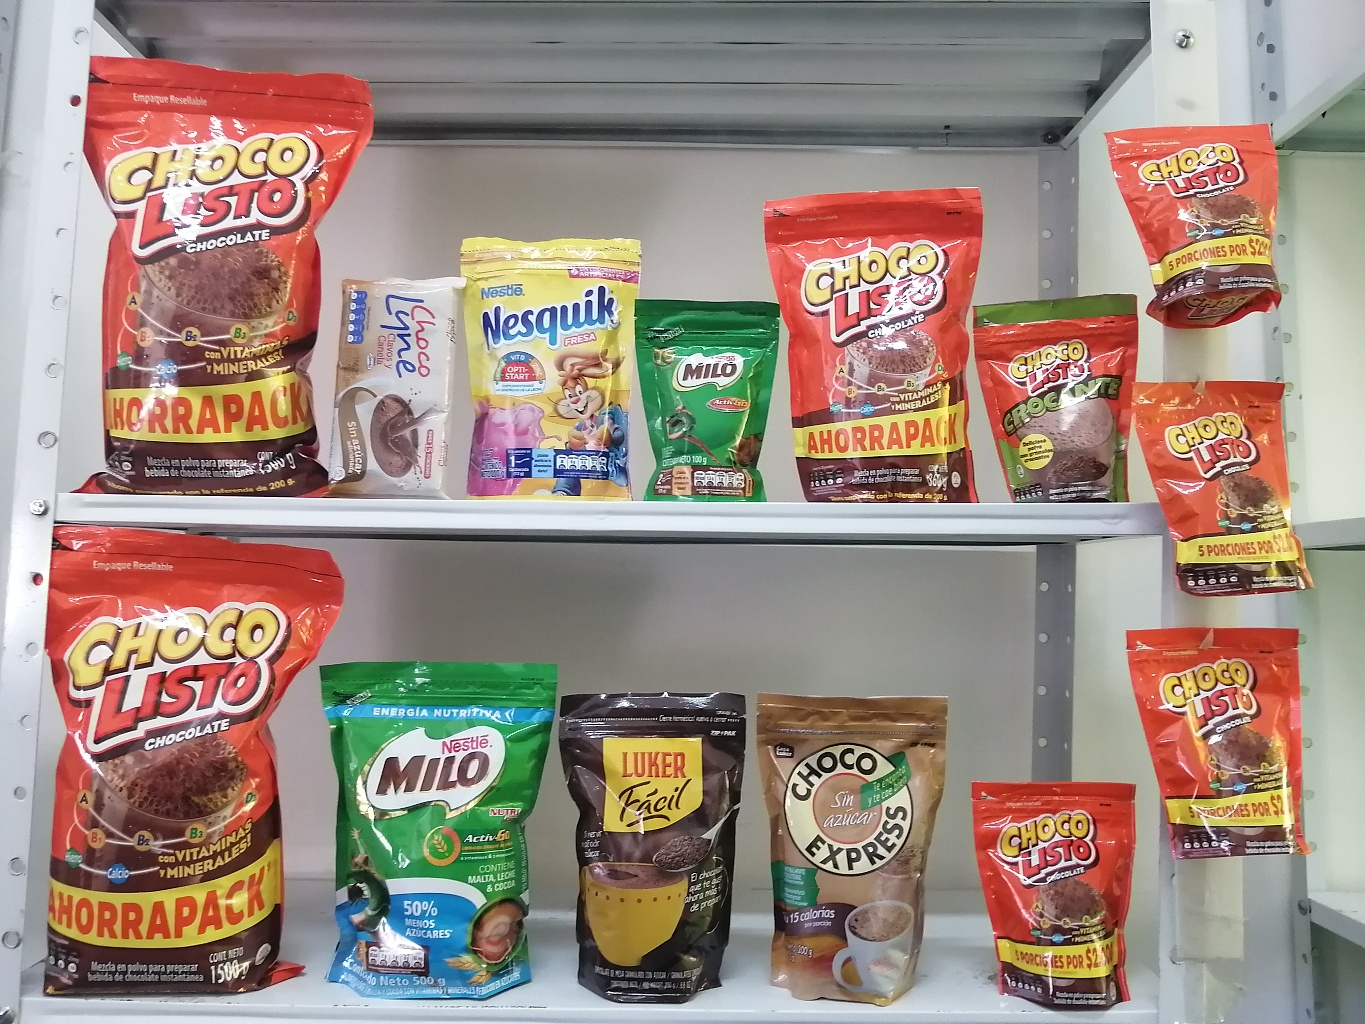COL0170102DYP10000: (976, 281, 1134, 497)
COL0170103DYP1,500: (83, 41, 370, 498)
COL0170103DYP36000: (764, 177, 989, 506)
COL0170203DYP10000: (632, 287, 778, 499)
COL0170205DYP50000: (325, 643, 564, 1009)
COL0170305DYP20000: (451, 229, 646, 501)
